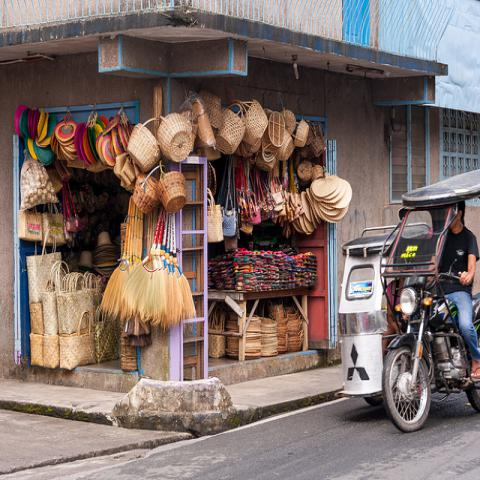motorcycle: (382, 269, 480, 432)
